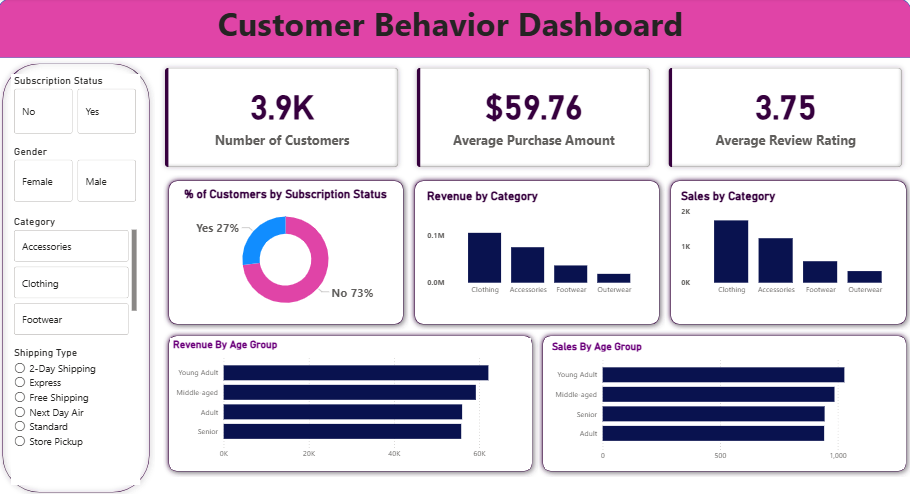

The page's visual inventory and layout, read from the dashboard file:
{"tool":"powerbi","page":{"name":"Page 1","canvas":[1500,820],"ordinal":0},"visuals":[{"type":"cardVisual","fields":{"Data":["customer_behavior customer.Number of Customers","customer_behavior customer.Average Purchase Amount","customer_behavior customer.Average Review Rating"]},"box":[259.1,98.4,1241.5,195.2],"z":0},{"type":"shape","box":[0,0,1500.6,98.4],"z":1000},{"type":"textbox","box":[0,0,1487.5,98.4],"z":2000},{"type":"shape","box":[675.7,290.3,419.8,254.2],"z":3000},{"type":"shape","box":[1095.5,290.3,405.1,254.2],"z":4000},{"type":"clusteredColumnChart","title":"Revenue by Category","fields":{"Y":["Sum(customer_behavior customer.purchase_amount)"],"Category":["customer_behavior customer.category"]},"box":[700.3,313.2,373.9,183.7],"z":5000},{"type":"clusteredColumnChart","title":"Sales by Category","fields":{"Y":["CountNonNull(customer_behavior customer.customer_id)"],"Category":["customer_behavior customer.category"]},"box":[1116.8,313.2,370.6,183.7],"z":6000},{"type":"shape","box":[0,98.4,259.1,721.6],"z":7000},{"type":"advancedSlicerVisual","fields":{"Values":["customer_behavior customer.subscription_status"]},"box":[23,124.6,211.6,103.3],"z":8000},{"type":"advancedSlicerVisual","fields":{"Values":["customer_behavior customer.gender"]},"box":[23,241.1,211.6,98.4],"z":9000},{"type":"advancedSlicerVisual","fields":{"Values":["customer_behavior customer.category"]},"box":[23,355.9,211.6,201.7],"z":10000},{"type":"listSlicer","fields":{"Values":["customer_behavior customer.shipping_type"]},"box":[23,570.7,211.6,228],"z":11000},{"type":"shape","box":[885.6,544.5,615,241.1],"z":12000},{"type":"clusteredBarChart","title":"Sales By Age Group","fields":{"Y":["CountNonNull(customer_behavior customer.customer_id)"],"Category":["customer_behavior customer.age_group"]},"box":[905.3,560.9,570.7,208.3],"z":13000},{"type":"shape","box":[272.2,544.5,615,241.1],"z":14000},{"type":"shape","box":[272.2,290.3,403.4,254.2],"z":15000},{"type":"donutChart","title":"% of Customers by Subscription Status","fields":{"Category":["customer_behavior customer.subscription_status"],"Y":["CountNonNull(customer_behavior customer.customer_id)"]},"box":[295.2,310,355.9,216.5],"z":16000},{"type":"clusteredBarChart","title":"Revenue By Age Group","fields":{"Y":["Sum(customer_behavior customer.purchase_amount)"],"Category":["customer_behavior customer.age_group"]},"box":[283.7,557.6,592,208.3],"z":17000}]}

Visuals, with their boxes in screenshot pixels (x1, y1, x2, y2), scaled from the page's 1500x820 canvas onto the 910x494 screenshot:
cardVisual - customer_behavior customer.Number of Customers x customer_behavior customer.Average Purchase Amount: x1=157, y1=59, x2=909, y2=177
shape: x1=0, y1=0, x2=909, y2=59
textbox: x1=0, y1=0, x2=902, y2=59
shape: x1=410, y1=175, x2=665, y2=328
shape: x1=665, y1=175, x2=909, y2=328
"Revenue by Category" clusteredColumnChart: x1=425, y1=189, x2=652, y2=299
"Sales by Category" clusteredColumnChart: x1=678, y1=189, x2=902, y2=299
shape: x1=0, y1=59, x2=157, y2=493
advancedSlicerVisual - customer_behavior customer.subscription_status: x1=14, y1=75, x2=142, y2=137
advancedSlicerVisual - customer_behavior customer.gender: x1=14, y1=145, x2=142, y2=205
advancedSlicerVisual - customer_behavior customer.category: x1=14, y1=214, x2=142, y2=336
listSlicer - customer_behavior customer.shipping_type: x1=14, y1=344, x2=142, y2=481
shape: x1=537, y1=328, x2=909, y2=473
"Sales By Age Group" clusteredBarChart: x1=549, y1=338, x2=895, y2=463
shape: x1=165, y1=328, x2=538, y2=473
shape: x1=165, y1=175, x2=410, y2=328
"% of Customers by Subscription Status" donutChart: x1=179, y1=187, x2=395, y2=317
"Revenue By Age Group" clusteredBarChart: x1=172, y1=336, x2=531, y2=461
